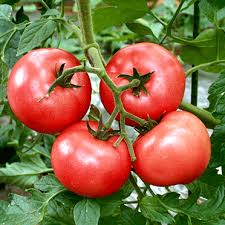tomato: (7, 49, 93, 136), (99, 43, 186, 129), (129, 107, 211, 186), (49, 122, 132, 198)
